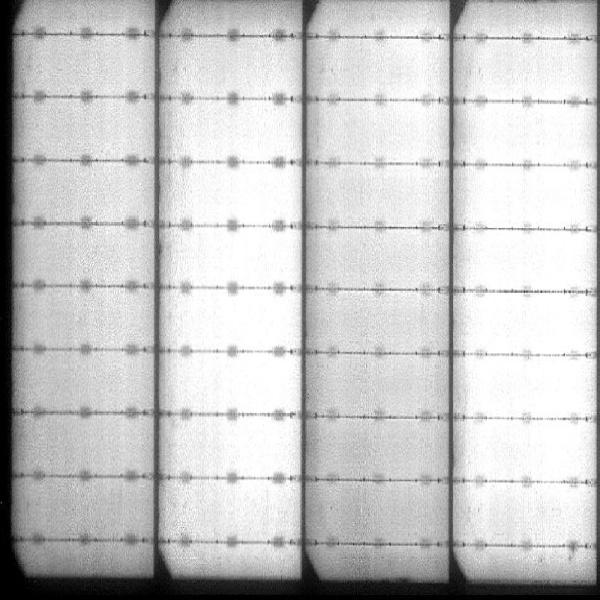hot_spot: (475, 296, 581, 345), (475, 363, 581, 407), (478, 427, 591, 468), (201, 422, 288, 473), (479, 174, 582, 216), (197, 234, 295, 278), (189, 300, 293, 341), (477, 237, 583, 277), (202, 361, 292, 408), (509, 484, 580, 540), (222, 176, 288, 218)
